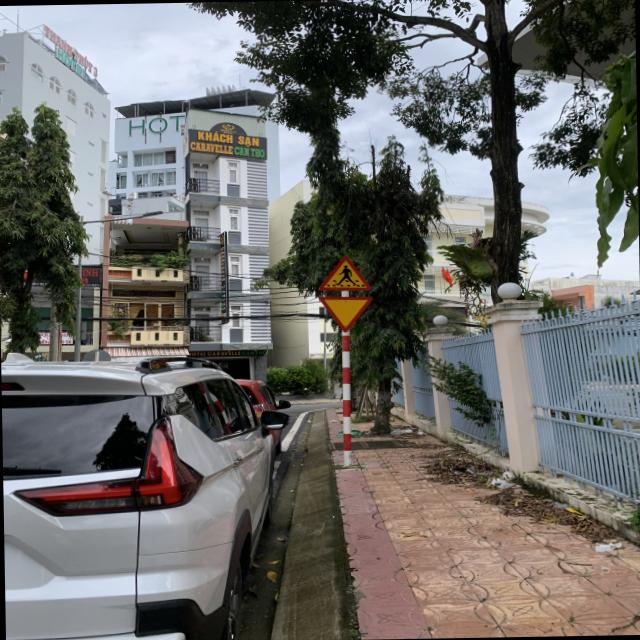Duong_Nguoi_Di_Bo_Sang_Ngang: (316, 256, 372, 292)
Gioi_Han_Toc_Do_25: (318, 294, 372, 333)
